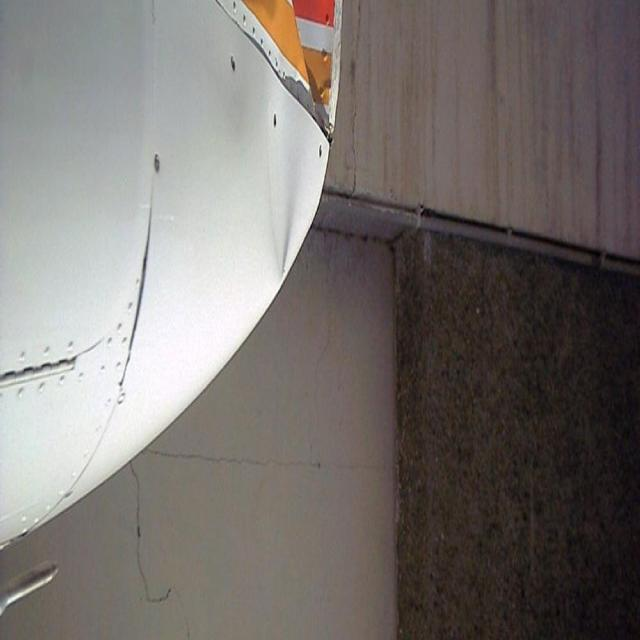dent: (269, 2, 336, 308)
